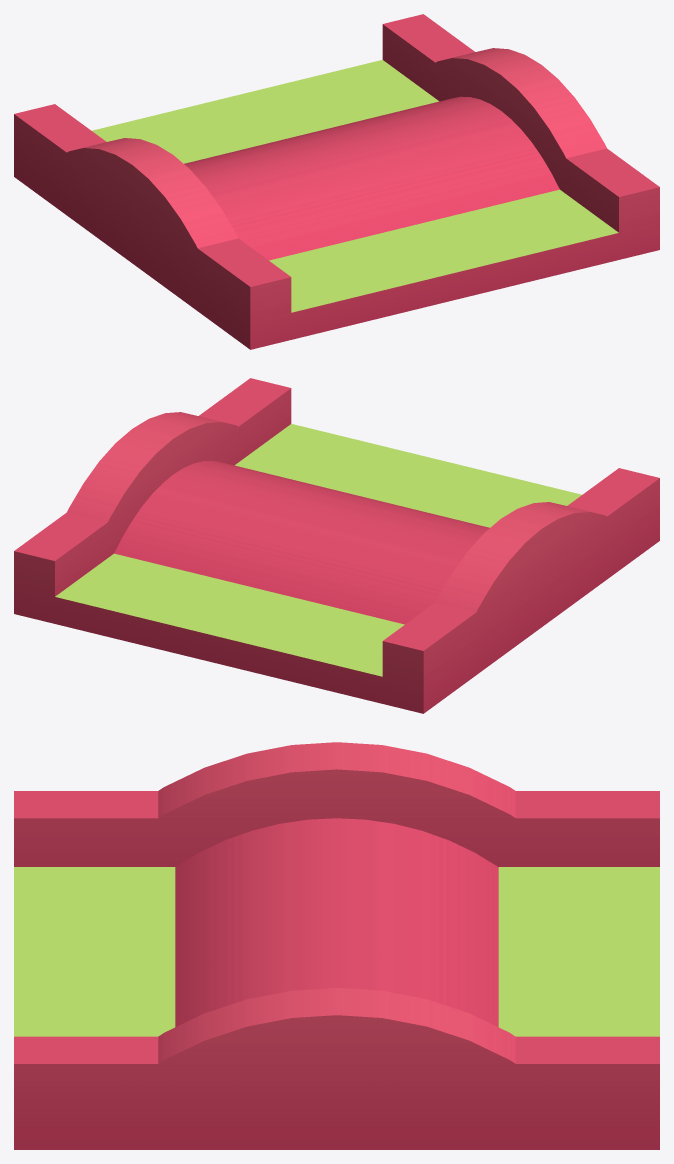
The model's file is hill-round.fbx.
The picture shows the model from 3 angles, top to bottom: view 1: azimuth 30°, elevation 25°; view 2: azimuth 150°, elevation 25°; view 3: azimuth 270°, elevation 25°; orthographic projection. The views are drawn at different scales.
Parts seen in each view (by area): view 1: hill_round; view 2: hill_round; view 3: hill_round.
Part boxes in pixels (box(x1,y1,x2,y2)): hill_round: box(14, 14, 659, 349); hill_round: box(14, 378, 659, 713); hill_round: box(14, 742, 659, 1149).
Bounding box in the file's own units: 99.99 × 23 × 99.99.
